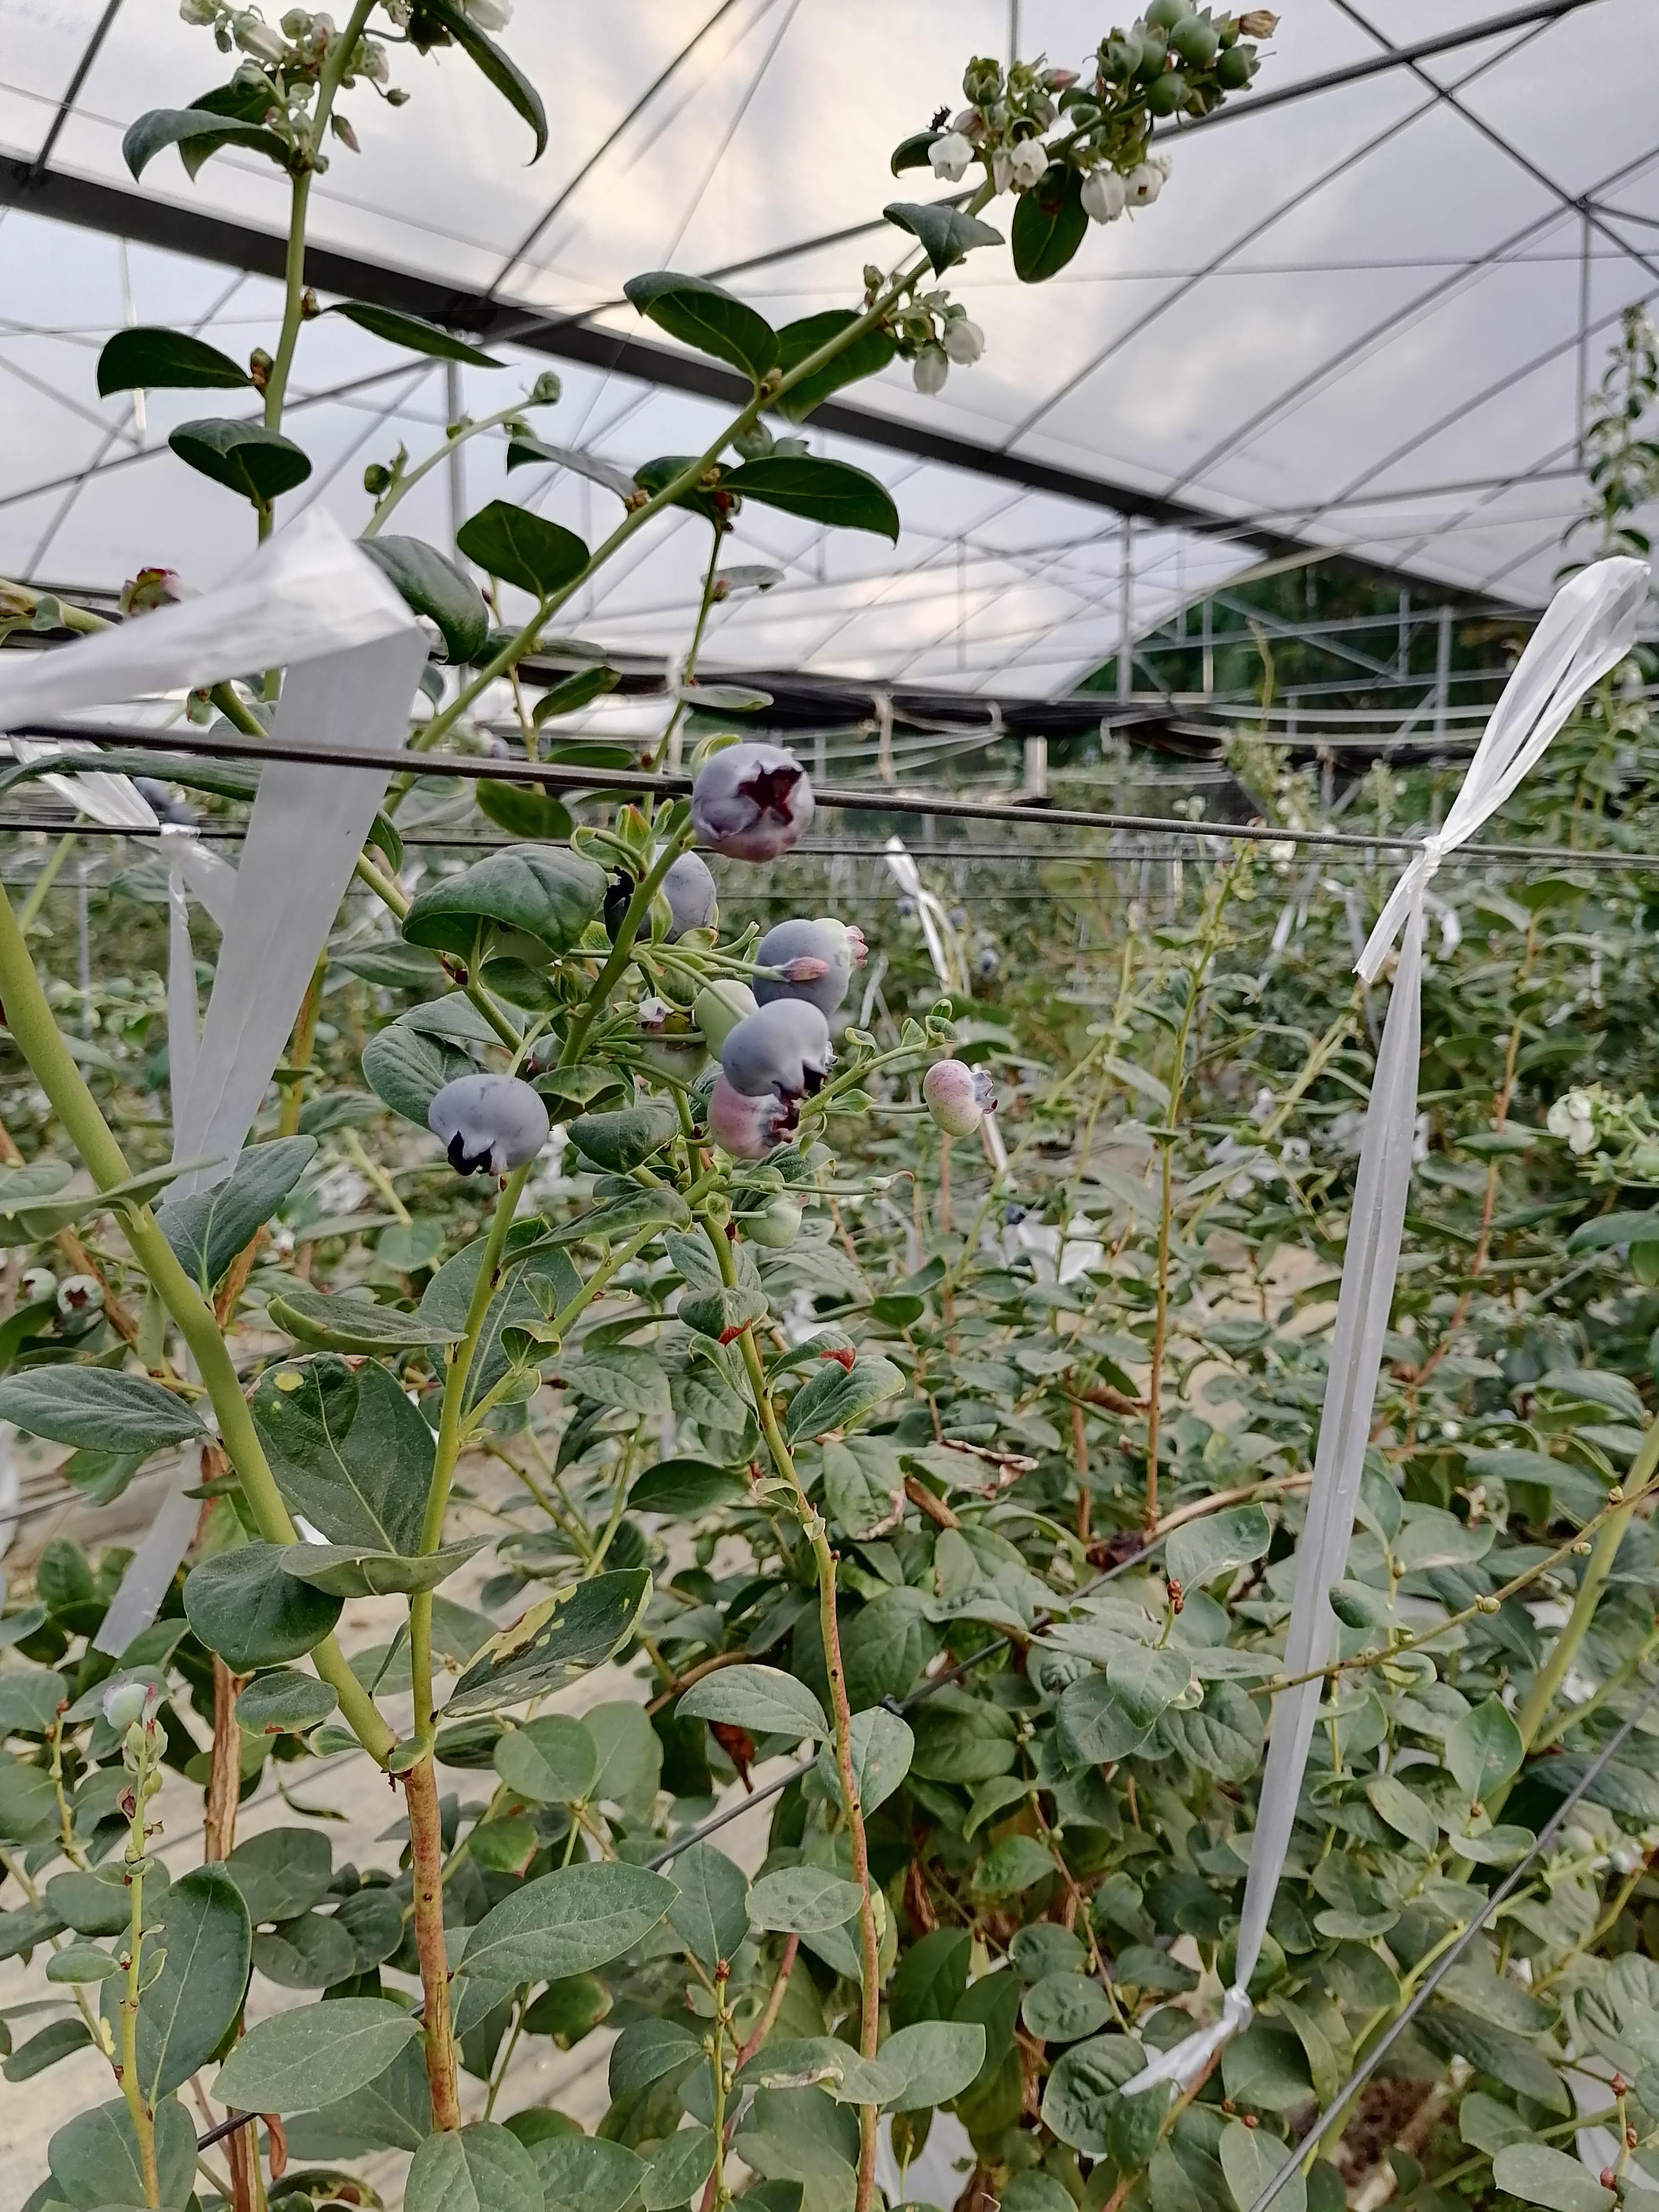ripe-blueberries: (692, 742, 814, 866), (427, 1073, 551, 1174), (720, 996, 830, 1104), (612, 843, 718, 946), (753, 916, 849, 1022)
